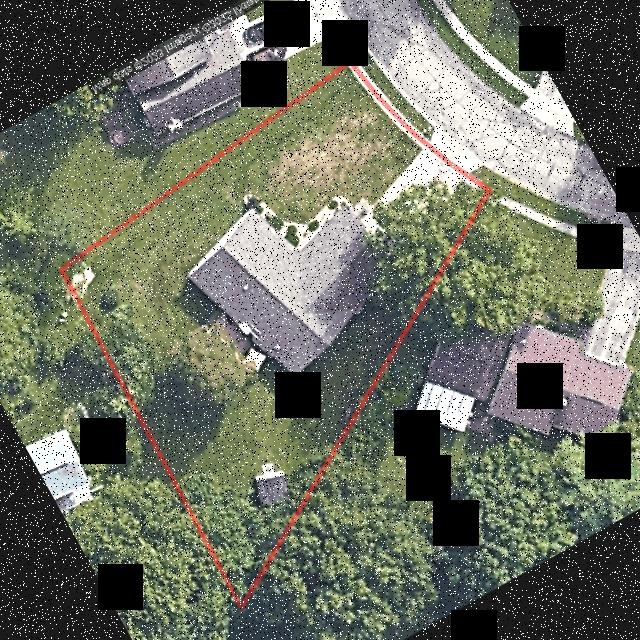Driveway: (351, 146, 465, 273)
Extra Driveway: (430, 125, 483, 173)
Extra Lawn: (354, 47, 434, 140), (468, 165, 499, 189)
Extra Sidewalk: (348, 55, 429, 143), (348, 65, 424, 148)
House: (188, 200, 372, 375)
Other: (204, 310, 253, 360), (254, 463, 287, 505), (241, 347, 265, 371)
Sidewalk: (462, 177, 485, 195)
